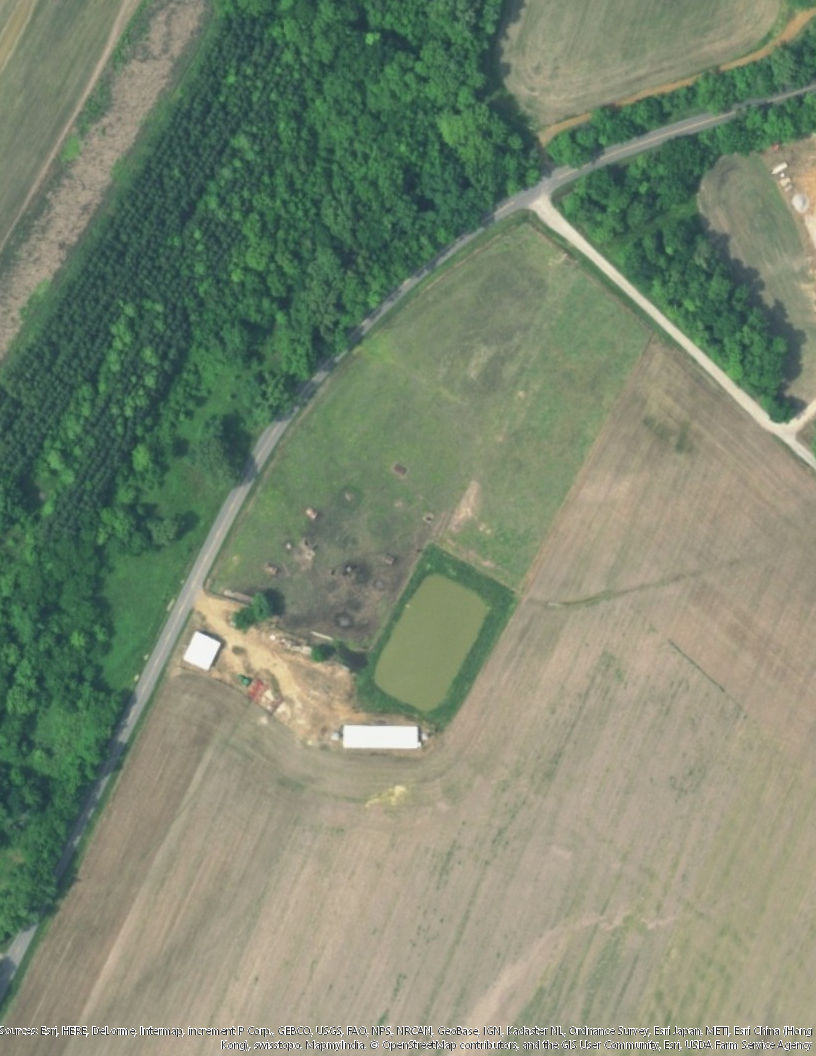cafo: (343, 726, 423, 750)
